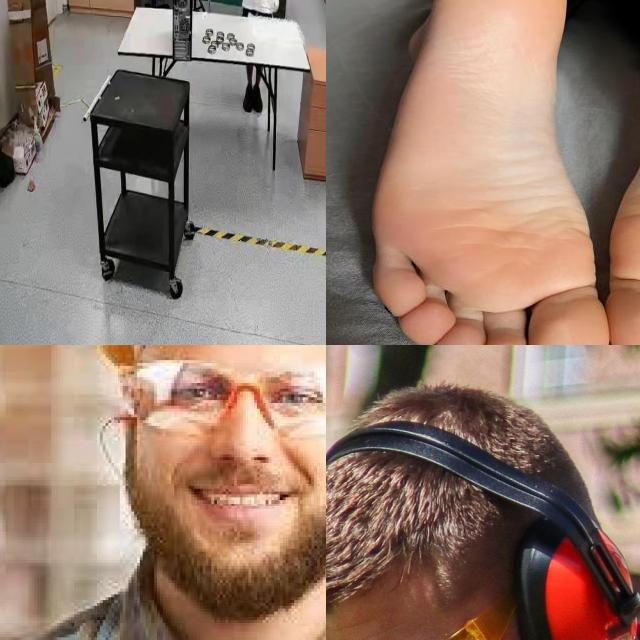Barefoots: (358, 0, 605, 345)
Ear-protection: (326, 416, 640, 640)
No_Ear-Protection: (97, 376, 149, 482)
face_nomask: (131, 407, 326, 616)
glasses: (132, 361, 326, 445), (326, 597, 519, 640)
shoes: (250, 82, 266, 116), (244, 80, 254, 112)
